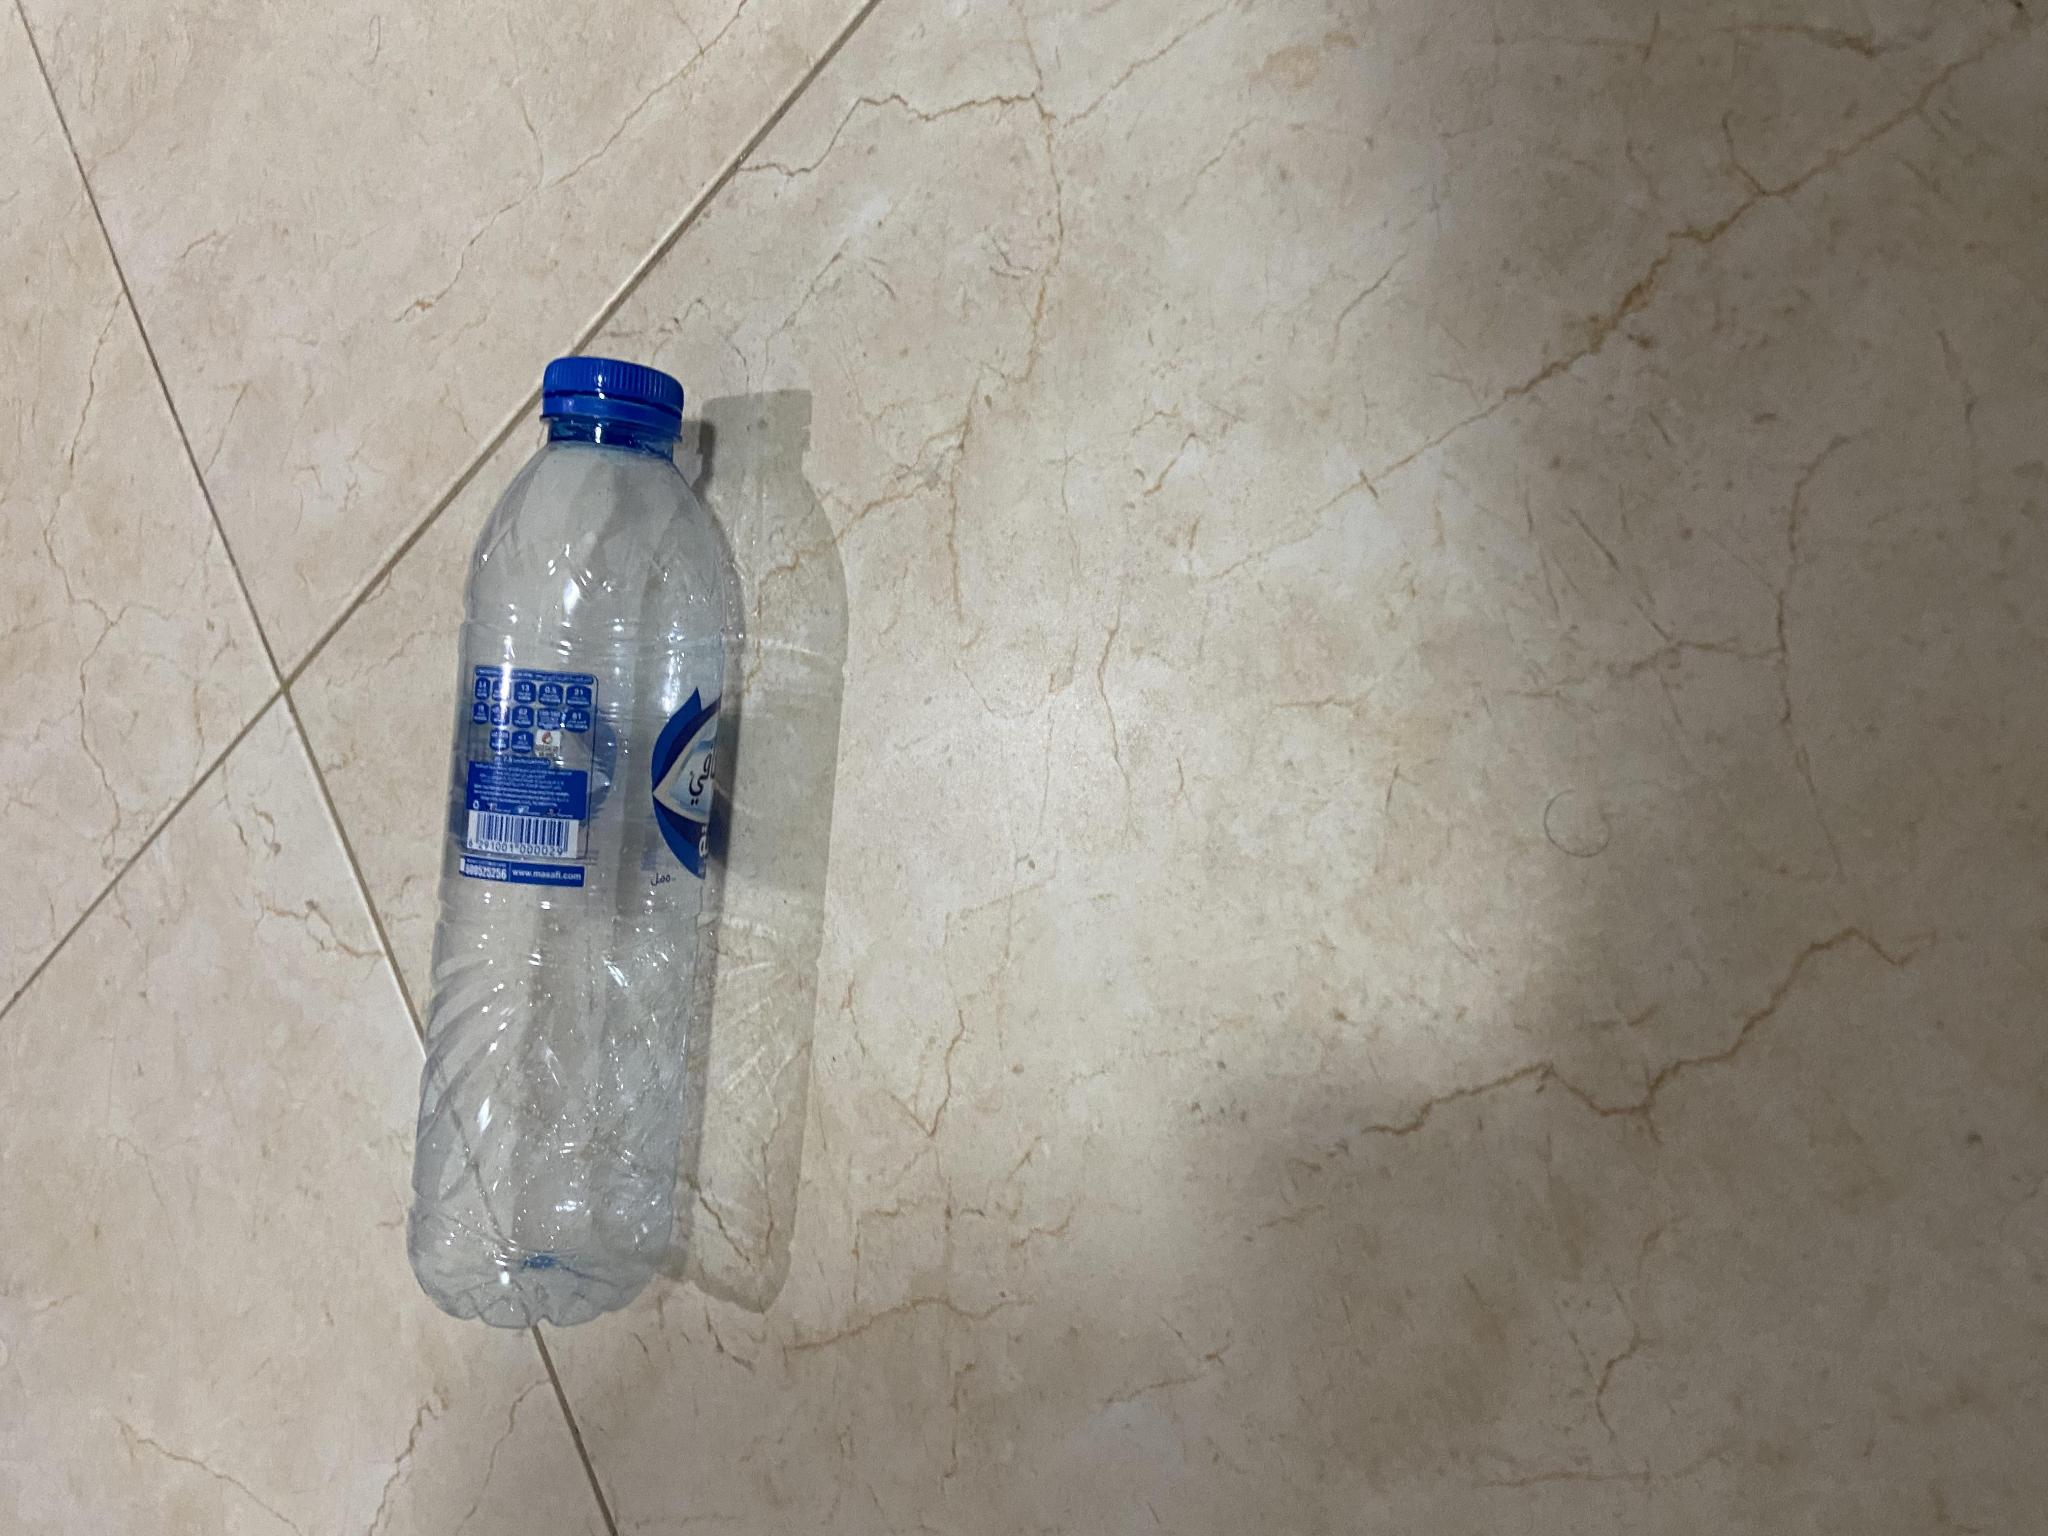bottle: (403, 339, 755, 1342)
